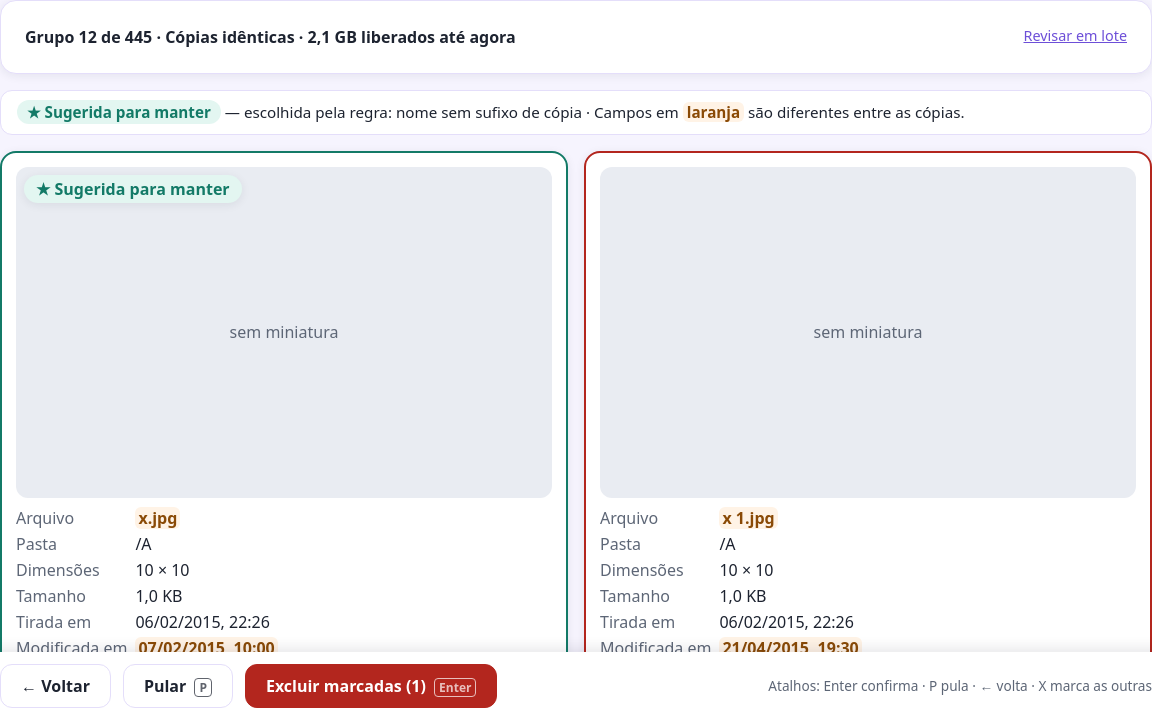
Test: modal de confirmação › abre com a prévia, confirma, mostra o resultado e "Próximo grupo" carrega o próximo sem sair da tela
The width and height of the screenshot is (1152, 720).
What coordinates should you click on to do the following:
click the button "Excluir marcadas (1) Enter"
I would click on:
 (371, 686)
Its box is [245,664,498,708].
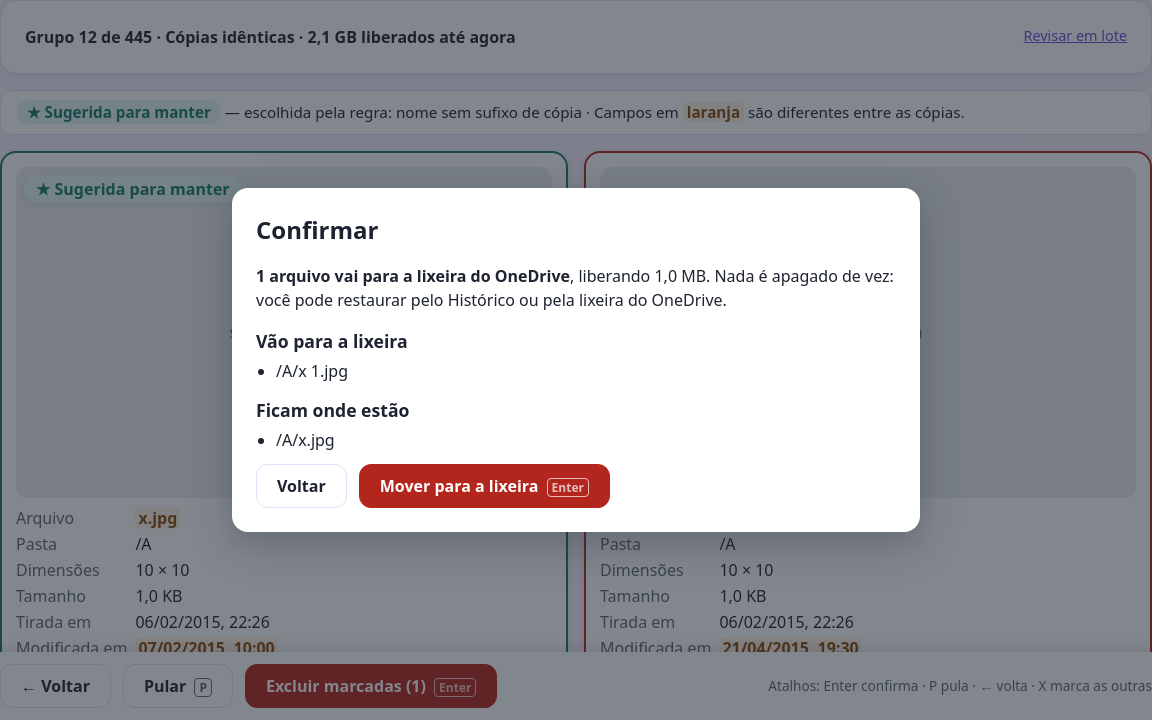
Check: the text "1 arquivo vai para a lixeira do OneDrive" is shown, box [256,265,570,287]
Check: the list item "/A/x.jpg" is shown, box [276,429,335,451]
What coordinates should you click on to do the following:
click the button "Mover para a lixeira Enter"
I would click on:
 (484, 486)
Its box is [359,464,610,508].
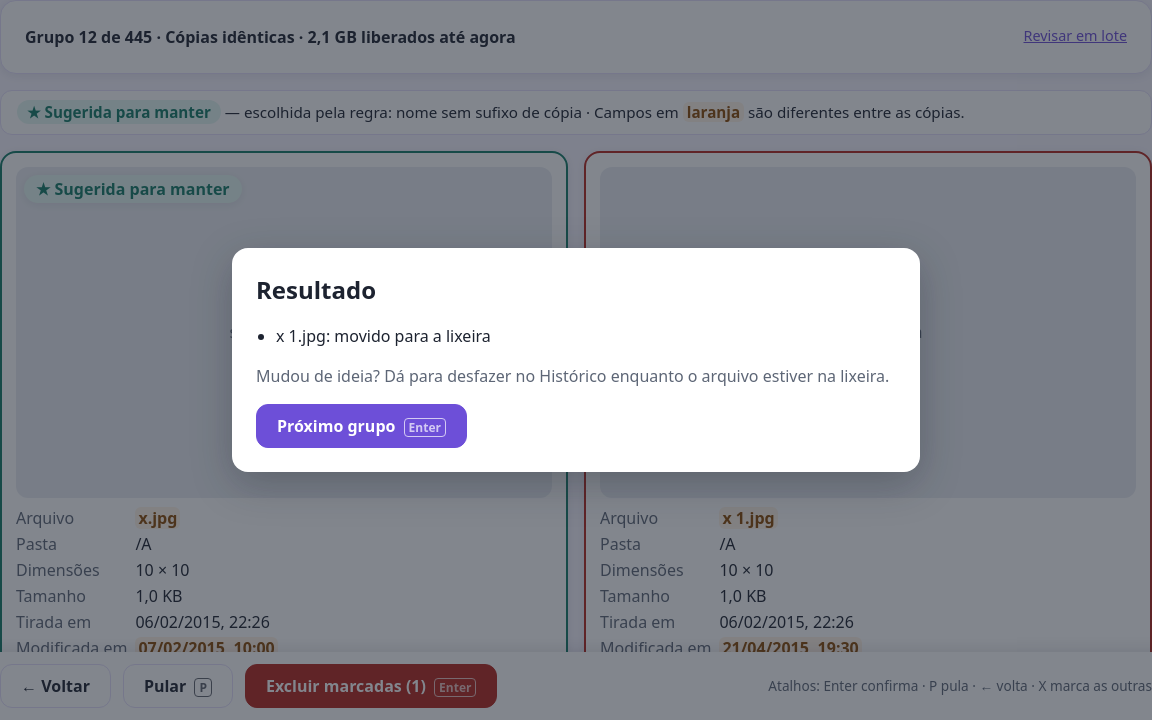
Check: the list item "x 1.jpg: movido para a lixeira" is shown, box [276,325,491,347]
What coordinates should you click on to do the following:
click the button "Próximo grupo Enter"
I would click on:
 (362, 426)
Its box is [256,404,467,448].
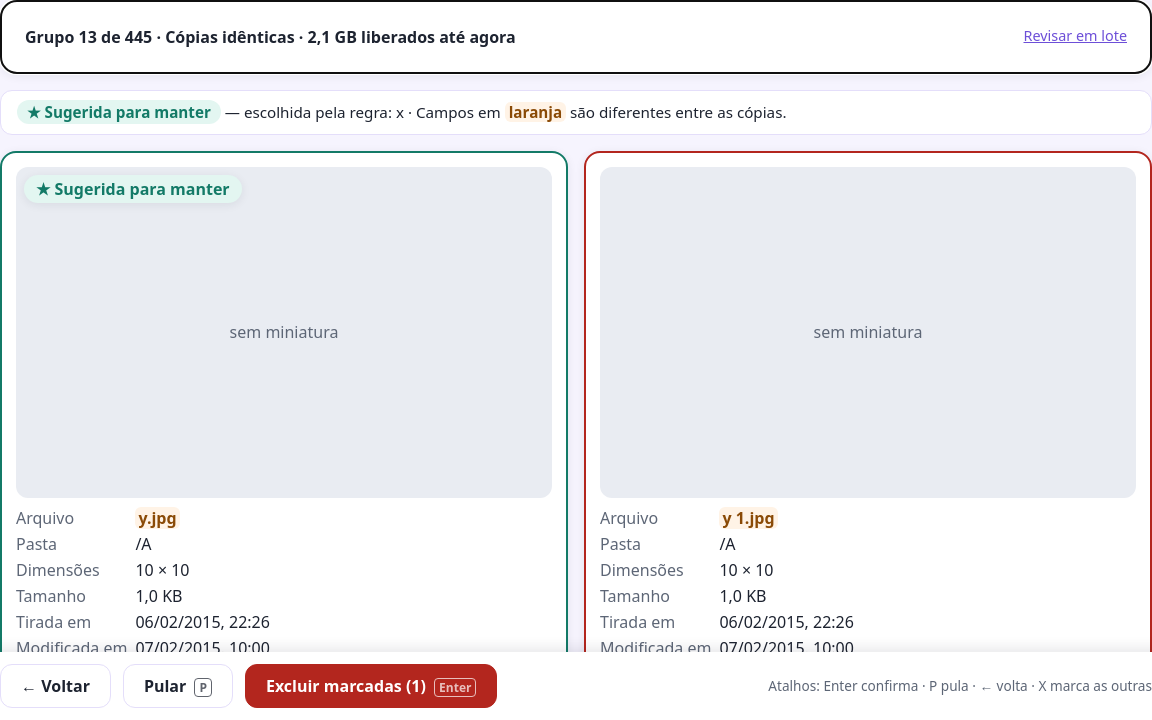
Check: the text "Grupo 13 de 445" is shown, box [25,25,516,49]
Check: the dialog is gone
